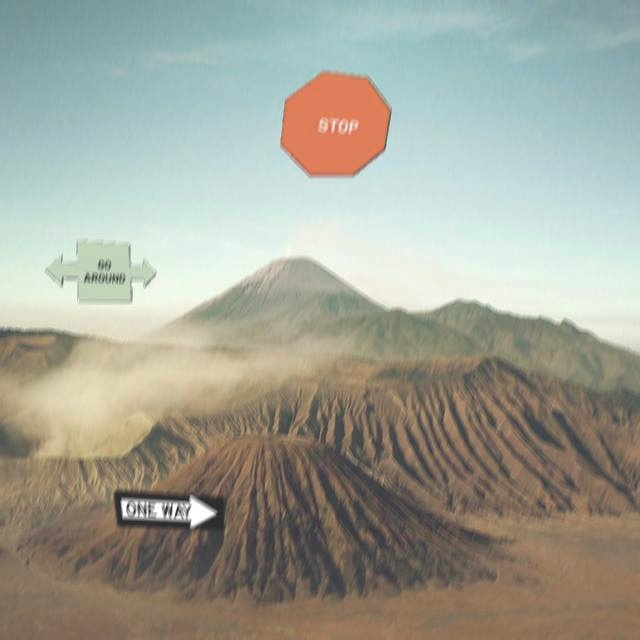GO_AROUND: (44, 239, 156, 302)
ONE_WAY_ right: (112, 489, 224, 530)
STOP: (279, 70, 391, 176)
